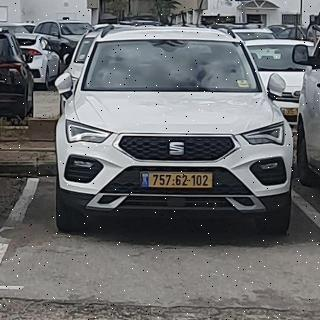LicensePlate: (149, 173, 211, 187)
